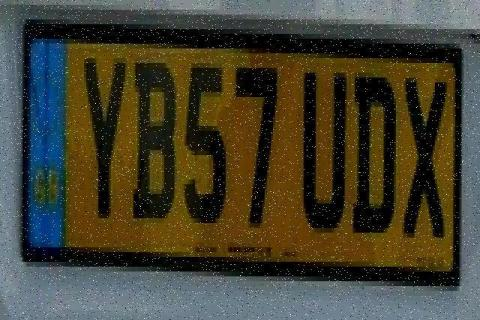LicensePlate: (17, 12, 472, 291)
